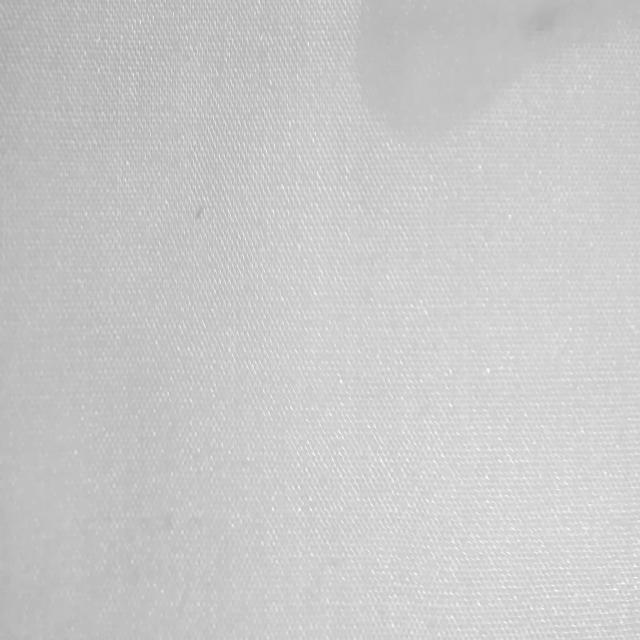Stain: (356, 0, 640, 142)
